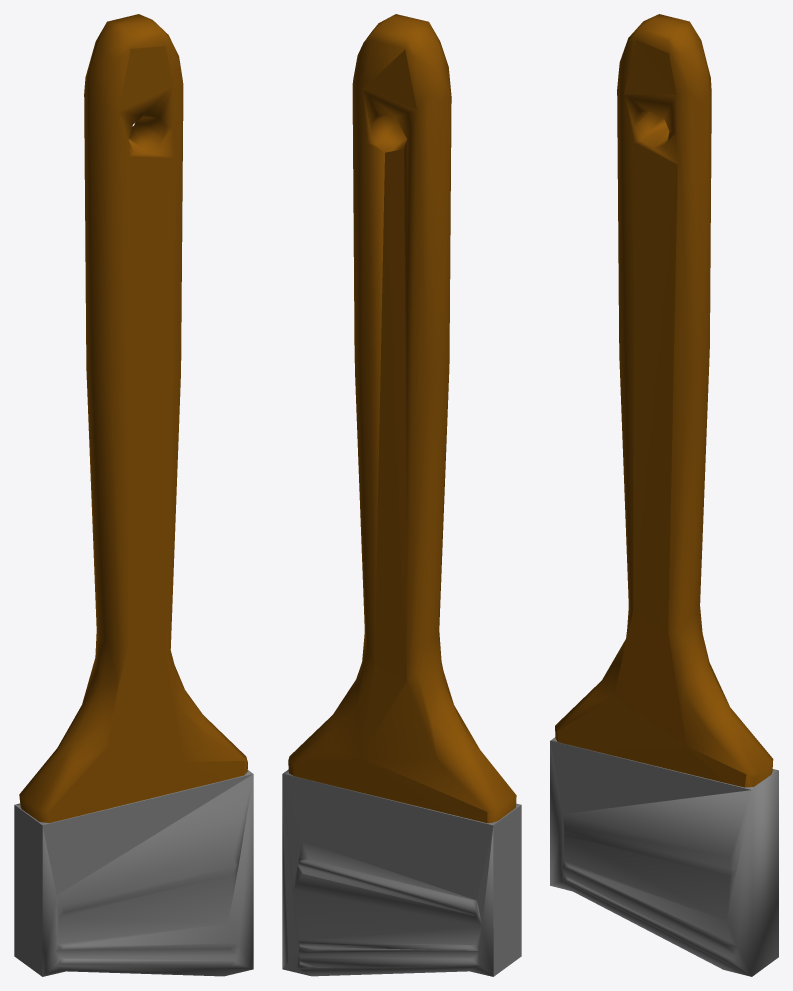
The model's file is VIS_Obj_3_Brush.dae.
The picture shows the model from 3 angles, left to right: view 1: azimuth 30°, elevation 25°; view 2: azimuth 150°, elevation 25°; view 3: azimuth 330°, elevation 25°; orthographic projection. The views are drawn at different scales.
Parts seen in each view (by area): view 1: VIS_Obj_3_Brush; view 2: VIS_Obj_3_Brush; view 3: VIS_Obj_3_Brush.
Boxes of the visible parts, x1=… form: VIS_Obj_3_Brush: x1=14, y1=14, x2=253, y2=976; VIS_Obj_3_Brush: x1=282, y1=14, x2=521, y2=976; VIS_Obj_3_Brush: x1=550, y1=14, x2=778, y2=976.
Size of the model in its own units: 1.63 by 0.4345 by 7.1.
